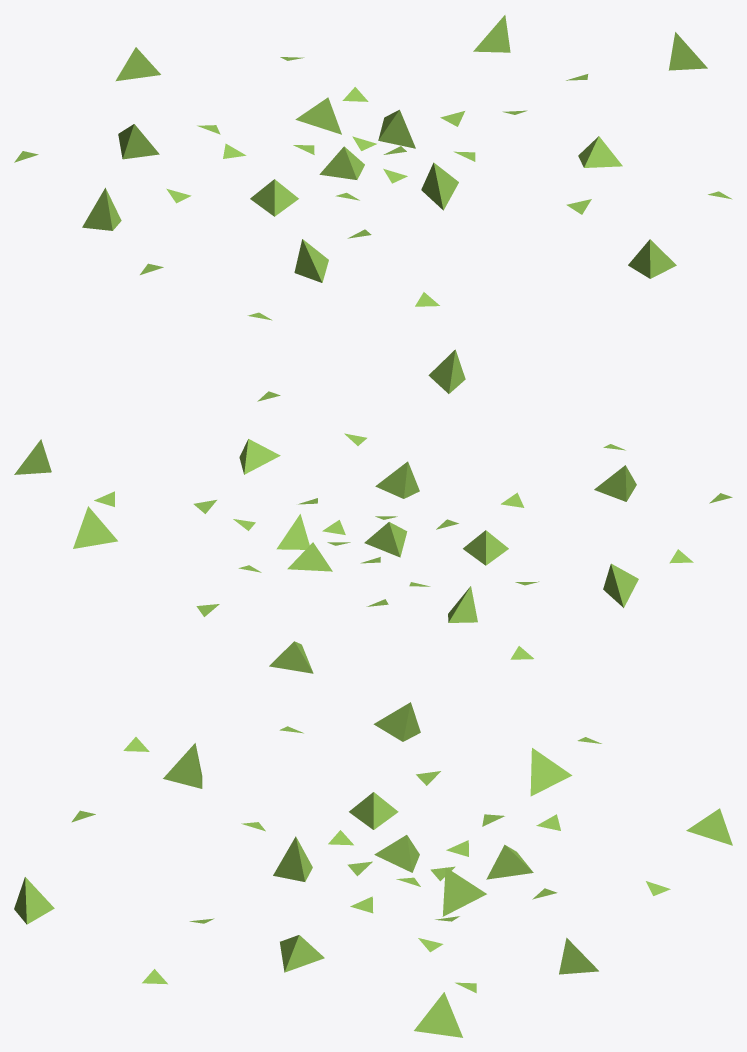
Rendered from mesh_Rubble1_v2.fbx.
The picture shows the model from 3 angles, top to bottom: view 1: azimuth 30°, elevation 25°; view 2: azimuth 150°, elevation 25°; view 3: azimuth 270°, elevation 25°; orthographic projection. The views are drawn at different scales.
Visible parts, largest first — view 1: mesh_Rubble1_v2_0; view 2: mesh_Rubble1_v2_0; view 3: mesh_Rubble1_v2_0.
Boxes of the visible parts, <box> form: mesh_Rubble1_v2_0: <box>14,15,732,320</box>; mesh_Rubble1_v2_0: <box>14,349,732,673</box>; mesh_Rubble1_v2_0: <box>14,702,732,1037</box>.
Size of the model in its own units: 124 by 10.68 by 121.
